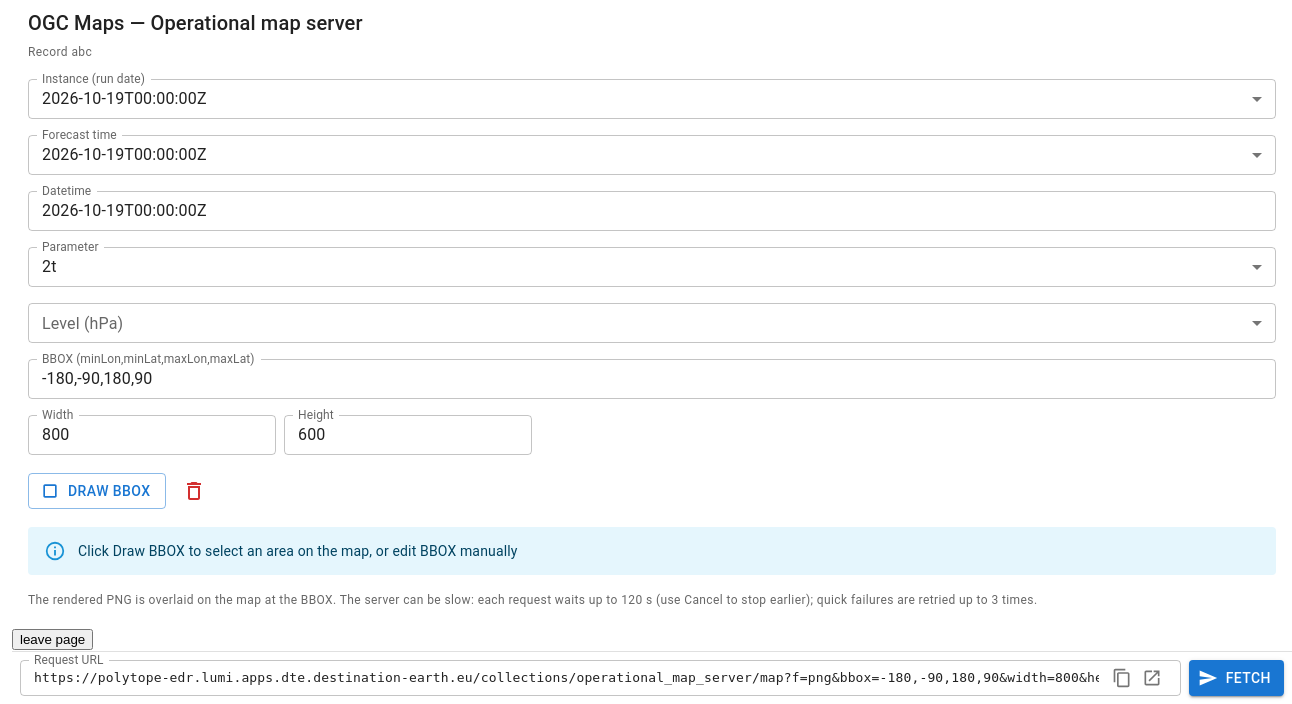
it: MapsPage › shows an error when the server fails
(page scrolled)
Type "&fail=500" into the field labelled "Request URL" at (559, 678), box left=20, top=660, right=1098, bottom=696
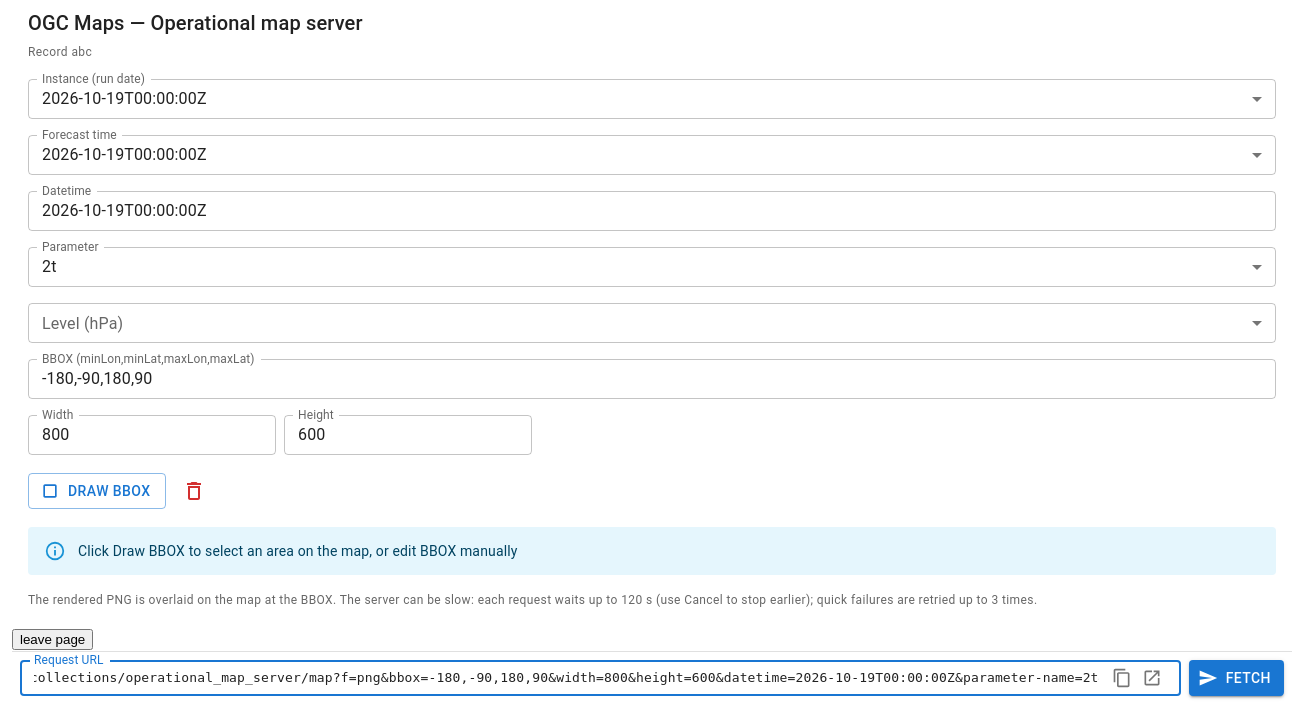
Click the button "Fetch" at (1236, 678), box left=1188, top=660, right=1284, bottom=696
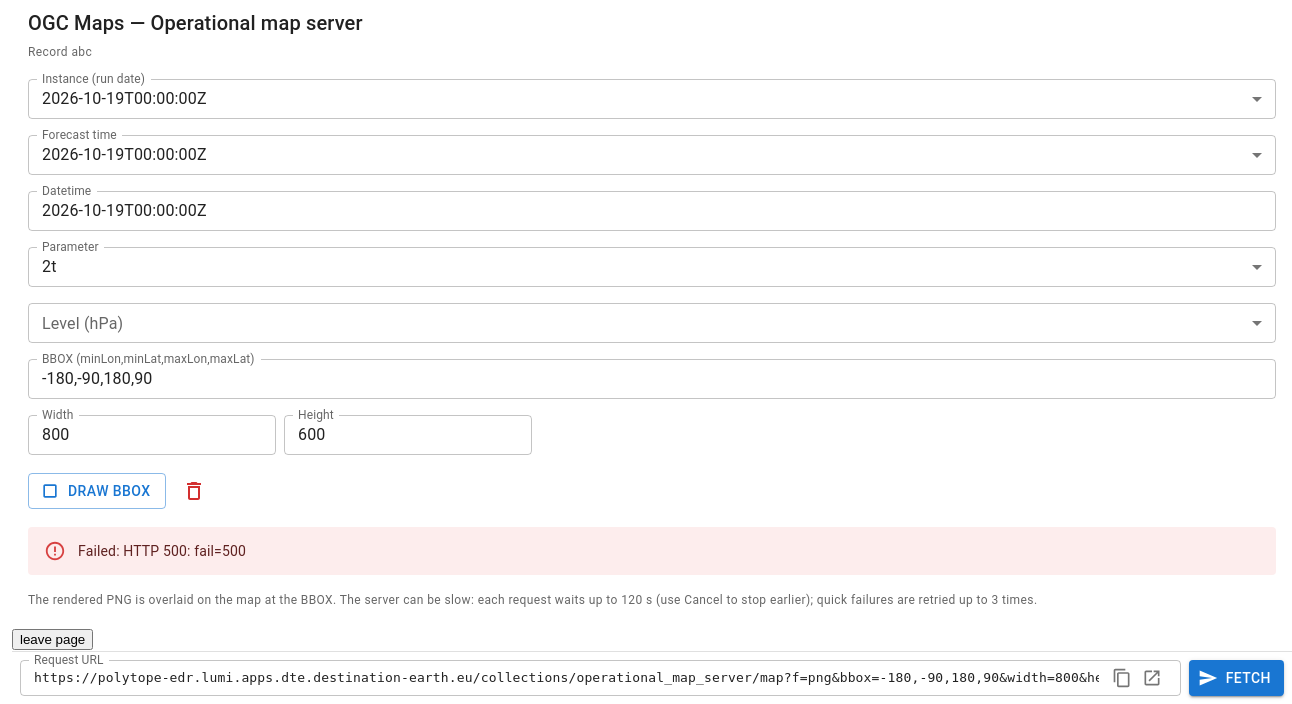
Expected: the message with test id "maps-status" shows "Failed: HTTP 500", left=78, top=543, right=246, bottom=559
